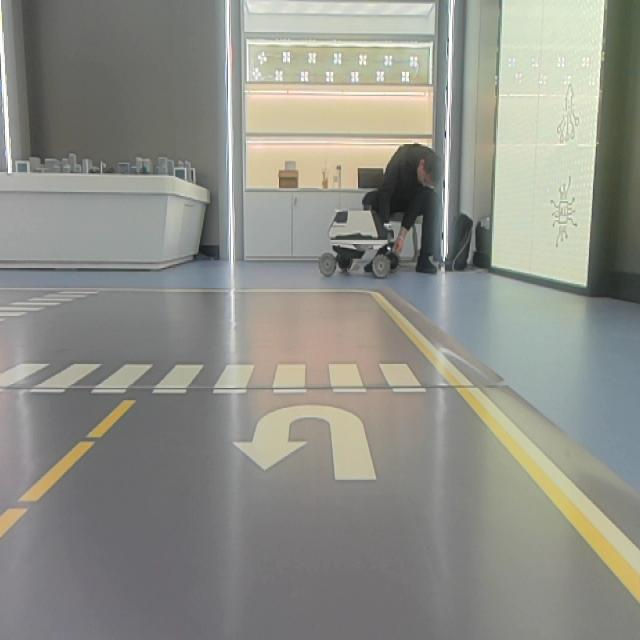left_lane: (0, 405, 136, 537)
right_lane: (380, 302, 638, 605)
